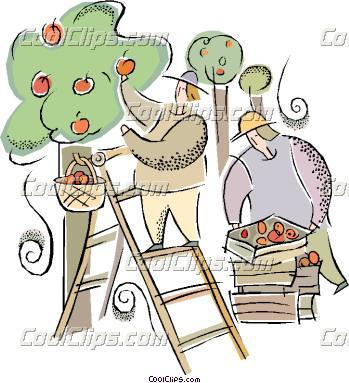person: (219, 111, 349, 294), (117, 69, 209, 251)
